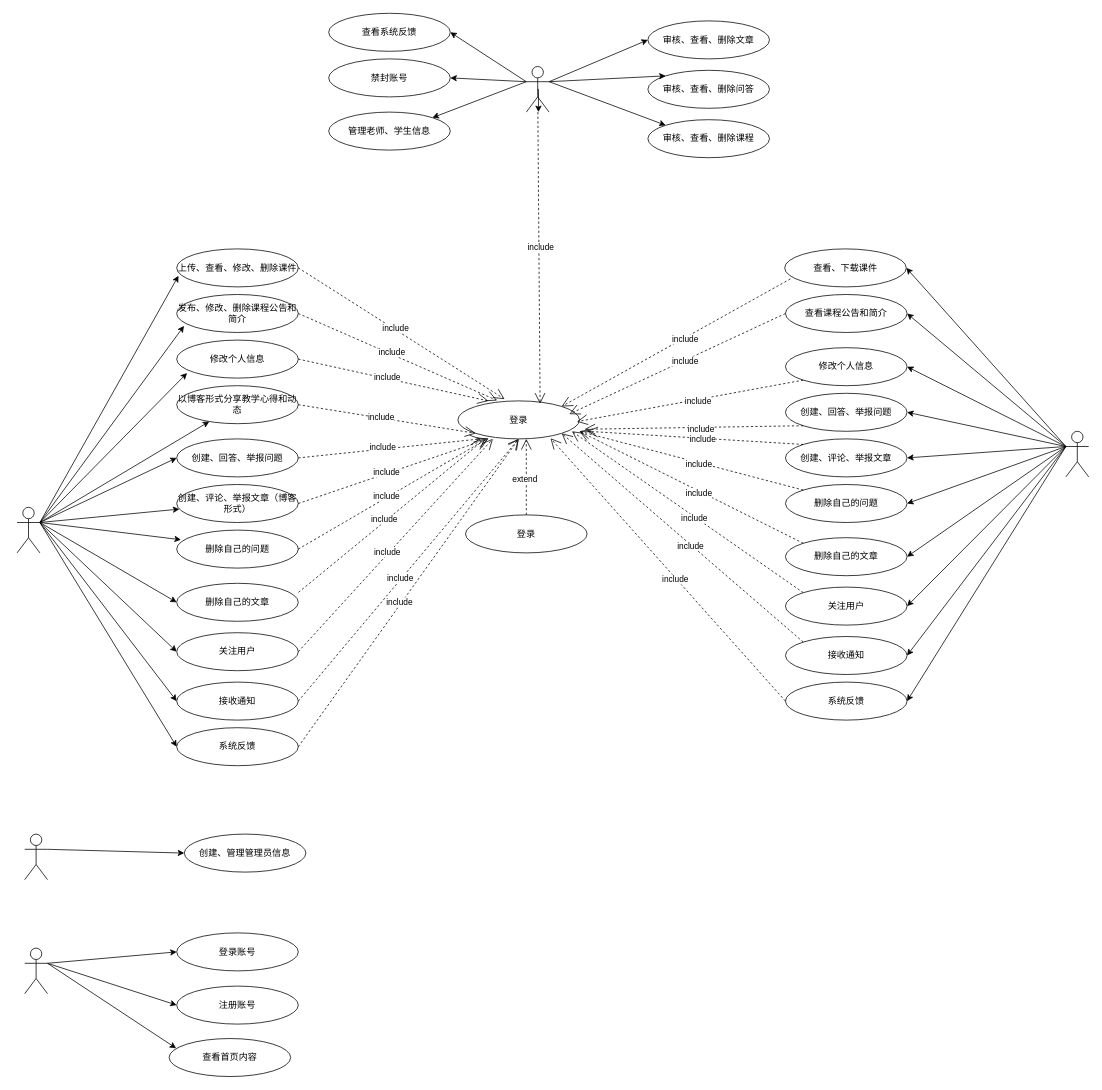
The diagram is 1102 pixels wide and 1090 high, and some of its shapes have lost their labels. The centre of each missing label's shape, as x and y in pixels:
学生: point (1077, 454)
游客: point (36, 970)
管理员: point (537, 89)
老师: point (28, 530)
超级管理员: point (36, 856)
